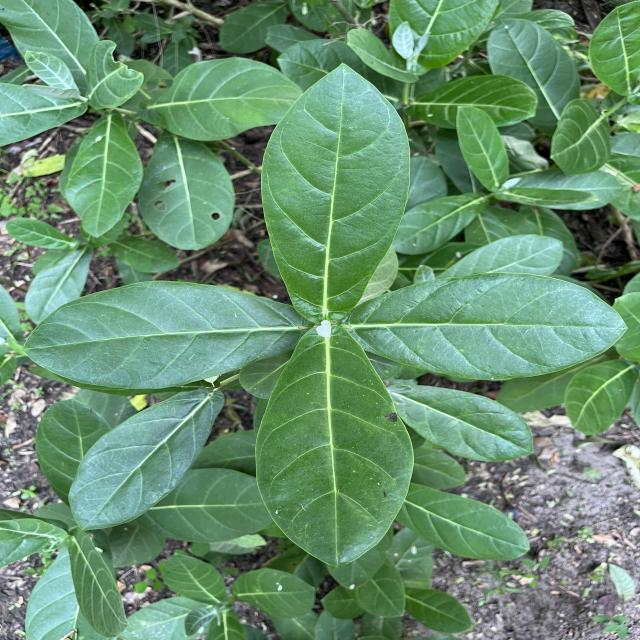Calotropis gigantea: (257, 59, 414, 322), (253, 322, 417, 571), (345, 270, 630, 382), (21, 279, 304, 390), (66, 387, 228, 532), (142, 56, 304, 142), (138, 132, 238, 252), (393, 382, 535, 463), (397, 482, 532, 562), (63, 114, 144, 239), (486, 18, 582, 118), (395, 192, 490, 256), (548, 98, 614, 176), (454, 105, 512, 188)
